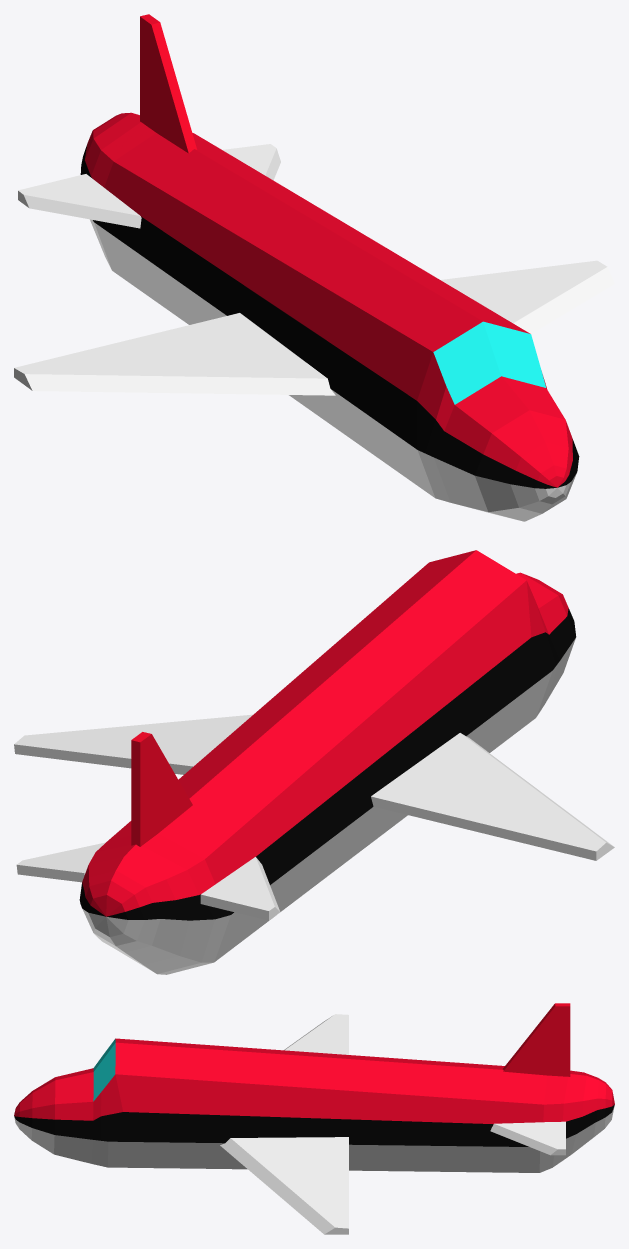
Rendered from Plane_No_Wheels.fbx.
The picture shows the model from 3 angles, top to bottom: view 1: azimuth 30°, elevation 25°; view 2: azimuth 150°, elevation 25°; view 3: azimuth 270°, elevation 25°; orthographic projection. The views are drawn at different scales.
Parts seen in each view (by area): view 1: Plane_No_Wheels; view 2: Plane_No_Wheels; view 3: Plane_No_Wheels.
Boxes of the visible parts, left/top/right/bottom form: Plane_No_Wheels: left=14, top=14, right=614, bottom=521; Plane_No_Wheels: left=14, top=550, right=614, bottom=974; Plane_No_Wheels: left=14, top=1003, right=614, bottom=1234.
Size of the model in its own units: 843 by 344 by 1124.
